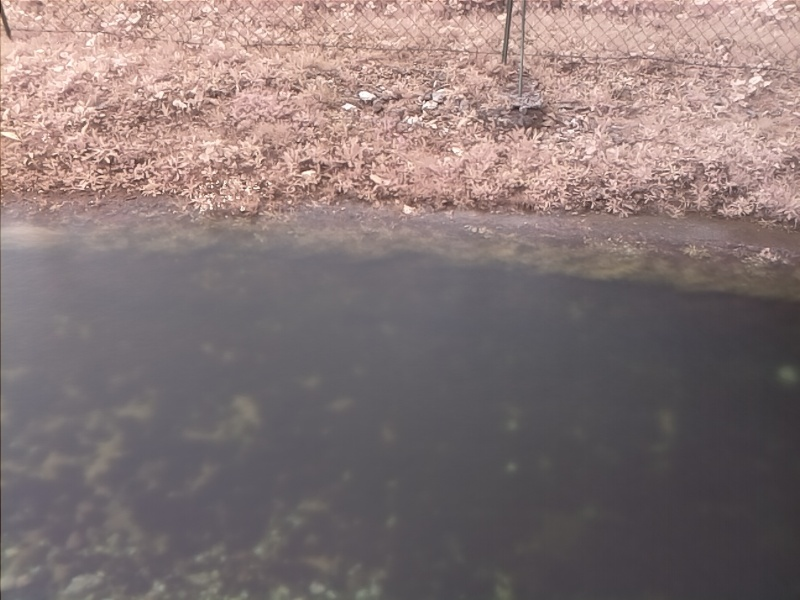Water: (1, 206, 798, 600)
